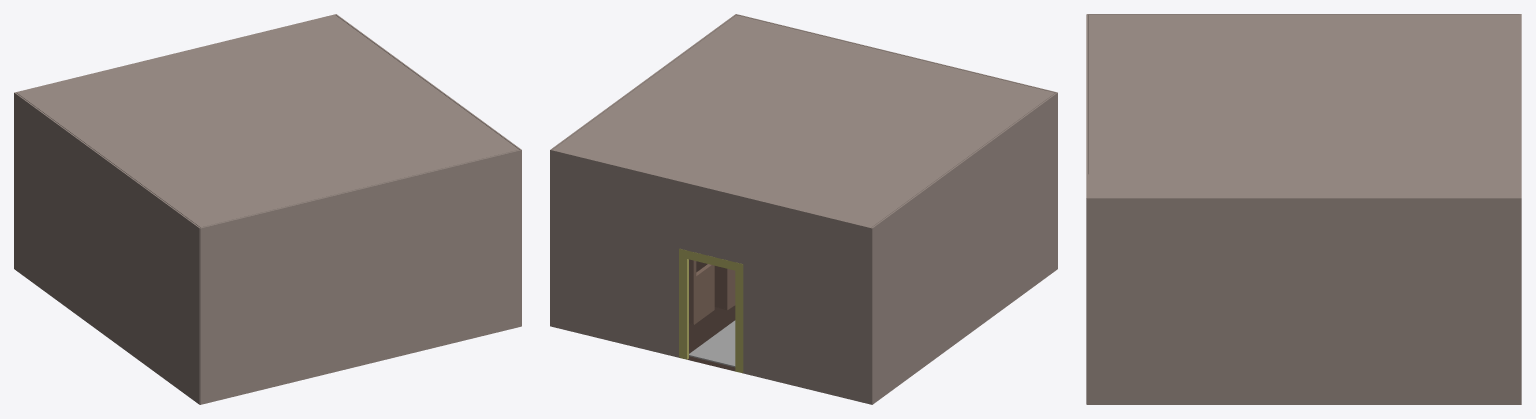
The model's file is Room09_Chapel.fbx.
3 renders of one model, left to right at view 1: azimuth 30°, elevation 25°; view 2: azimuth 150°, elevation 25°; view 3: azimuth 270°, elevation 25°, orthographic. The views are drawn at different scales.
Visible parts, largest first — view 1: Roof, WallPosZ, WallPosX, WallPosZ10, WallPosX7, WallNegX; view 2: Roof, WallSlicedNegZ, WallPosX, WallSlicedNegZ35, WallPosX7, DoorFrameNegZ, Floor, pCube73, pCube71, WallNegX, Pew_Back, WallPosZ; view 3: Roof, WallNegX, WallNegX22, WallPosX, WallSlicedNegZ, WallPosZ.
Part boxes in pixels (x1,y1,x2,y2): Roof: [17, 15, 518, 227]; WallPosZ: [200, 149, 521, 364]; WallPosX: [14, 92, 200, 364]; WallPosZ10: [200, 286, 521, 404]; WallPosX7: [14, 229, 199, 404]; WallNegX: [335, 14, 521, 285]; Roof: [553, 15, 1054, 227]; WallSlicedNegZ: [550, 149, 872, 364]; WallPosX: [871, 92, 1057, 364]; WallSlicedNegZ35: [550, 286, 871, 404]; WallPosX7: [870, 229, 1057, 404]; DoorFrameNegZ: [679, 248, 743, 372]; Floor: [679, 305, 742, 373]; pCube73: [689, 320, 735, 367]; pCube71: [696, 264, 714, 322]; WallNegX: [550, 14, 735, 285]; Pew_Back: [704, 263, 729, 309]; WallPosZ: [736, 14, 1057, 92]; Roof: [1088, 15, 1519, 197]; WallNegX: [1087, 197, 1521, 357]; WallNegX22: [1087, 357, 1521, 404]; WallPosX: [1087, 14, 1521, 174]; WallSlicedNegZ: [1519, 14, 1521, 197]; WallPosZ: [1086, 14, 1087, 357].
Size of the model in its own units: 802 by 420 by 801.
